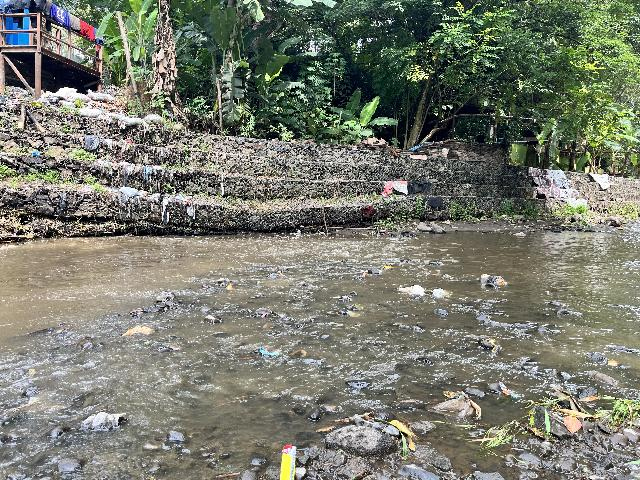Sampah Anorganik: (432, 389, 481, 420), (275, 440, 303, 480), (496, 381, 523, 401), (477, 271, 504, 286), (255, 345, 283, 356), (394, 286, 426, 295), (431, 285, 449, 299), (330, 295, 352, 302), (382, 266, 394, 271), (297, 280, 307, 285)
Sampah Organik: (528, 380, 640, 438), (305, 408, 418, 454), (5, 402, 65, 412), (118, 323, 157, 337), (486, 335, 504, 361), (290, 349, 308, 358), (212, 472, 241, 477), (345, 311, 362, 318), (127, 308, 144, 315), (353, 304, 366, 311), (605, 360, 617, 366), (226, 283, 234, 291), (276, 270, 285, 277), (362, 272, 367, 278)
